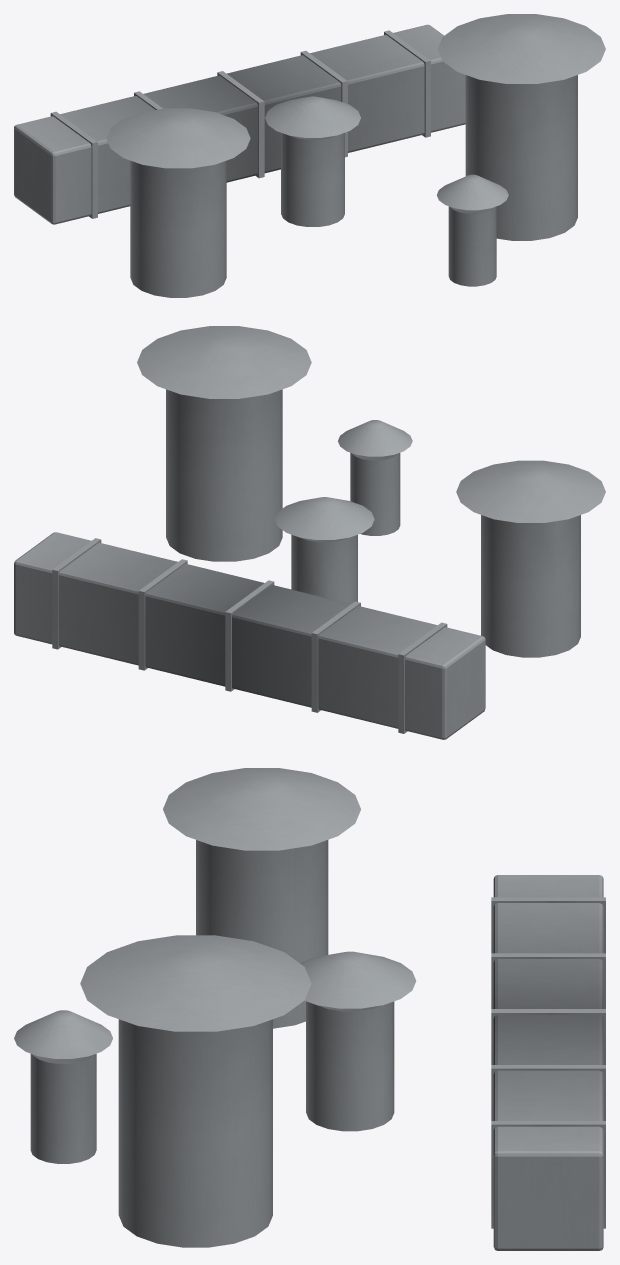
The model's file is roof_vents.glb.
3 renders of one model, top to bottom at view 1: azimuth 30°, elevation 25°; view 2: azimuth 150°, elevation 25°; view 3: azimuth 270°, elevation 25°, orthographic. The views are drawn at different scales.
Parts seen in each view (by area): view 1: roof_vents_galvanised; view 2: roof_vents_galvanised; view 3: roof_vents_galvanised.
Boxes of the visible parts, x1,y1,x2,y2 form: roof_vents_galvanised: [14, 14, 605, 297]; roof_vents_galvanised: [14, 326, 605, 739]; roof_vents_galvanised: [14, 768, 605, 1250].
Size of what is drawn, in the model's own units: 3.26 by 1.29 by 2.69.
Materials: 1 (1 with a texture image).
